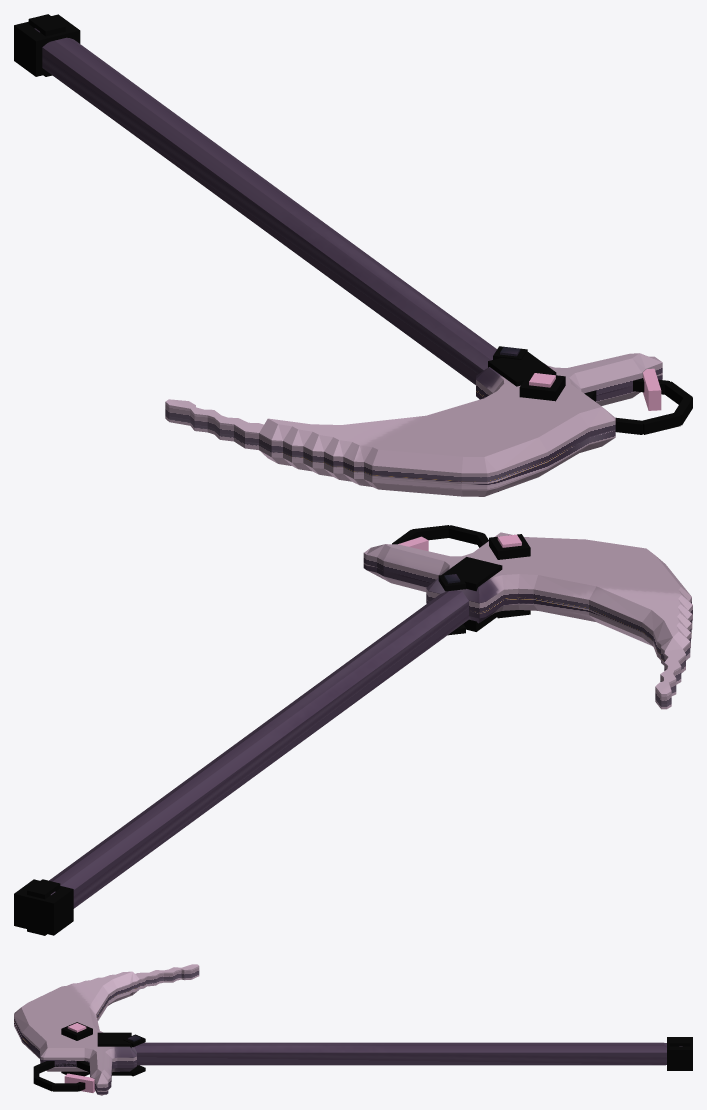
File: eclipse_scythe.obj
3 views of the same model, one above another, from view 1: azimuth 30°, elevation 25°; view 2: azimuth 150°, elevation 25°; view 3: azimuth 270°, elevation 25° (orthographic). The views are drawn at different scales.
Parts seen in each view (by area): view 1: eclipse_scythe; view 2: eclipse_scythe; view 3: eclipse_scythe.
Part boxes in pixels (x1,y1,x2,y2): eclipse_scythe: [14, 14, 692, 496]; eclipse_scythe: [14, 525, 692, 935]; eclipse_scythe: [14, 964, 692, 1095].
Bounding box in the file's own units: 0.6521 × 0.1219 × 1.56.
